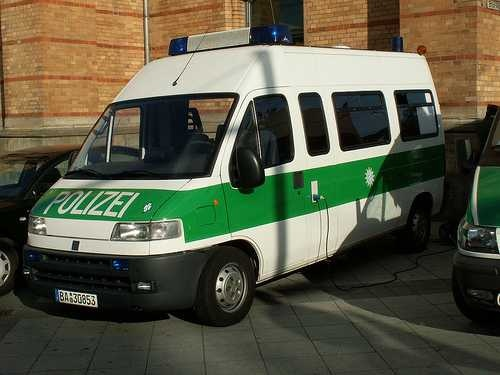Police Van: (12, 26, 444, 321)
